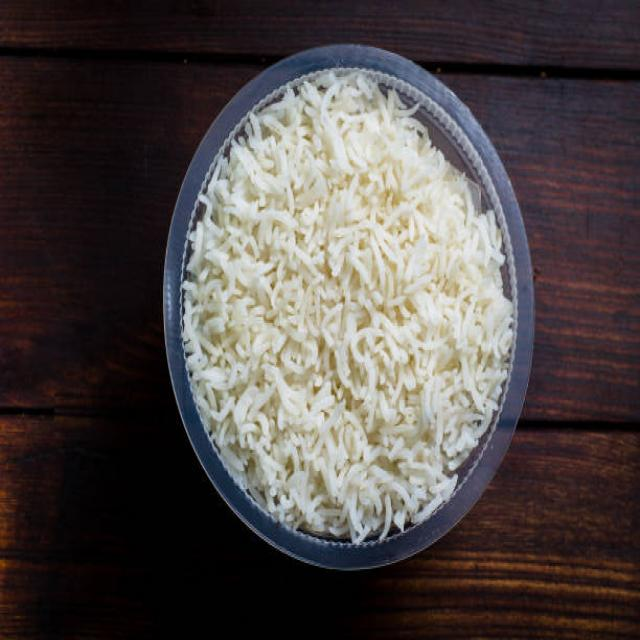rice: (183, 71, 515, 545)
